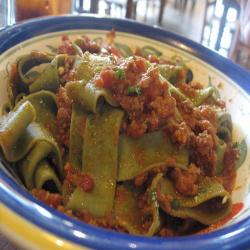bolonese_pasta: (8, 40, 247, 241)
